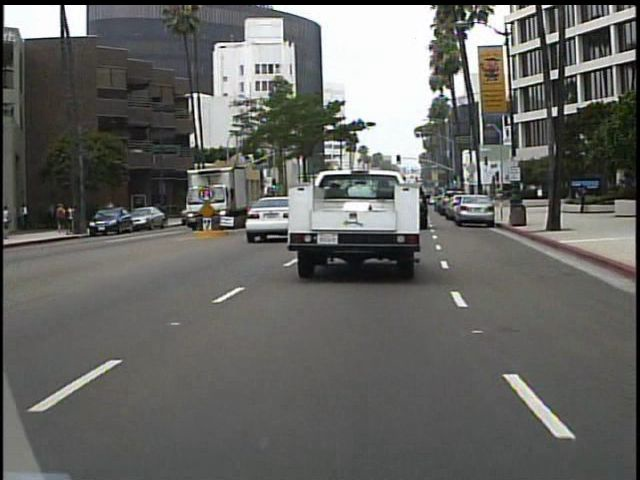person: (574, 179, 590, 215), (4, 202, 16, 241)
